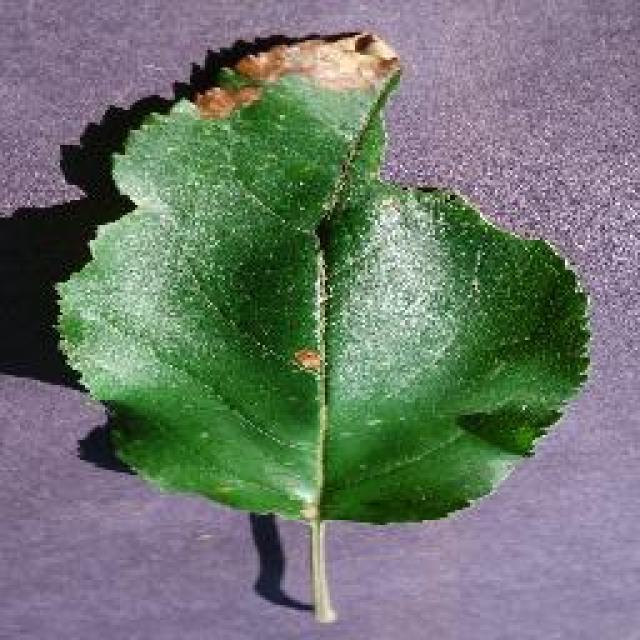Black_rot: (50, 28, 592, 620)
